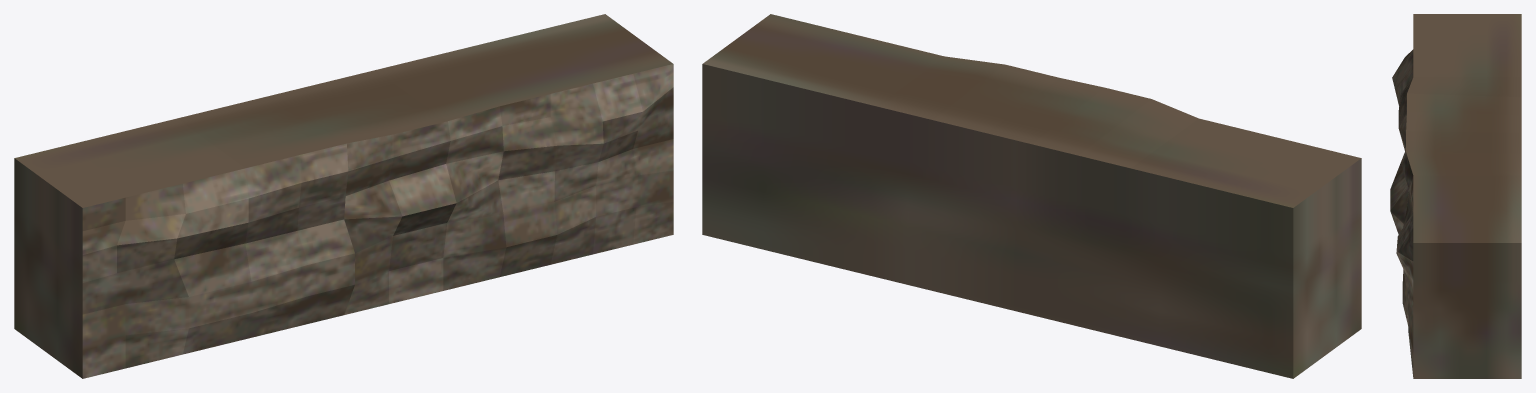
File: RockWall.glb
3 renders of one model, left to right at view 1: azimuth 30°, elevation 25°; view 2: azimuth 150°, elevation 25°; view 3: azimuth 270°, elevation 25°, orthographic. The views are drawn at different scales.
Visible parts, largest first — view 1: Cube; view 2: Cube; view 3: Cube.
Part boxes in pixels (x1,y1,x2,y2): Cube: (14,14,673,378); Cube: (702,14,1361,378); Cube: (1390,14,1521,378).
Size of the model in its own units: 28.25 by 7.99 by 6.86.
1 material, 1 textured.
